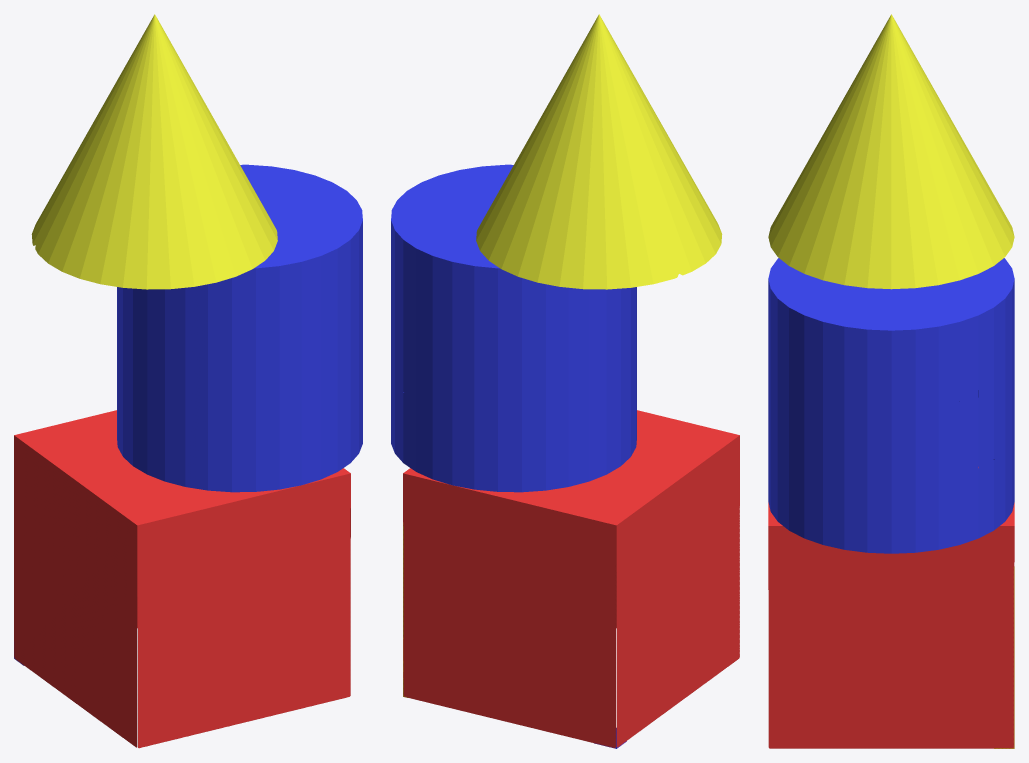
File: tall.obj
3 renders of one model, left to right at view 1: azimuth 30°, elevation 25°; view 2: azimuth 150°, elevation 25°; view 3: azimuth 270°, elevation 25°, orthographic.
Visible parts, largest first — view 1: Cube; view 2: Cube; view 3: Cube.
Part boxes in pixels (box(x1,y1,x2,y2)): Cube: box(14, 14, 362, 748); Cube: box(391, 14, 739, 748); Cube: box(768, 14, 1014, 748).
Size of the model in its own units: 2.8 by 6 by 2.
1 material, 1 textured.
